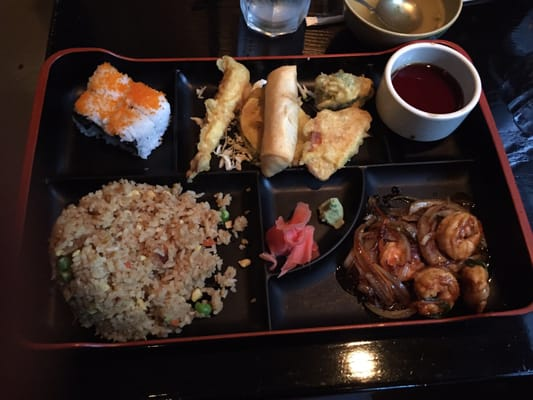sushi: (374, 40, 482, 142), (341, 0, 463, 49)
